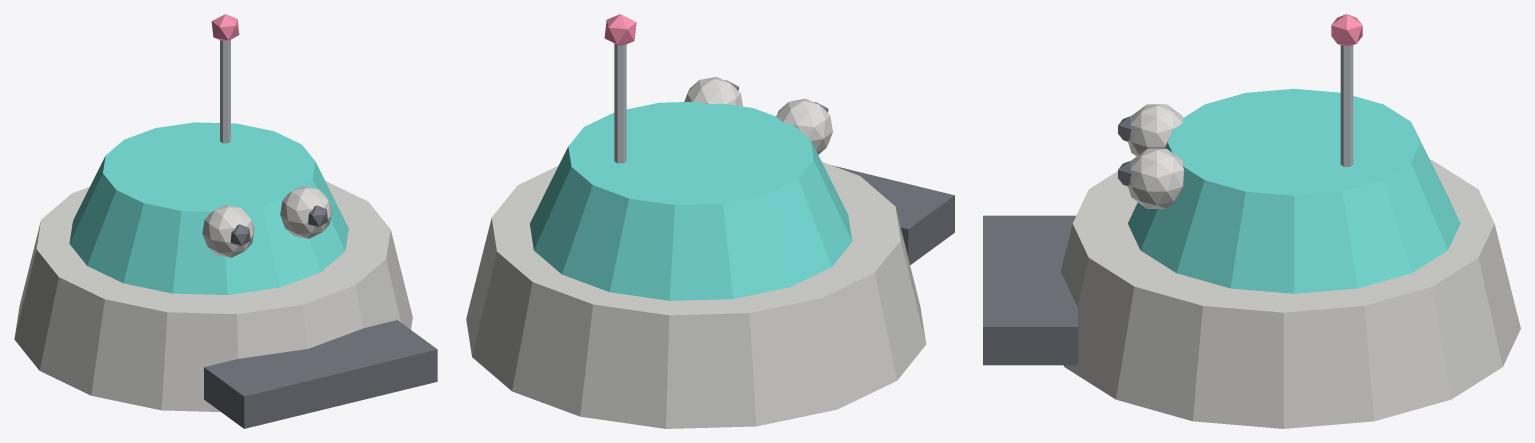
File: PoolRobot.fbx
3 views of the same model, side by side, from view 1: azimuth 30°, elevation 25°; view 2: azimuth 150°, elevation 25°; view 3: azimuth 270°, elevation 25° (orthographic). The views are drawn at different scales.
Parts seen in each view (by area): view 1: PoolRobot; view 2: PoolRobot; view 3: PoolRobot.
Boxes of the visible parts, left/top/right/bottom form: PoolRobot: left=14, top=14, right=437, bottom=428; PoolRobot: left=466, top=14, right=954, bottom=428; PoolRobot: left=983, top=14, right=1520, bottom=428.
Size of the model in its own units: 0.9 by 0.705 by 1.02.
